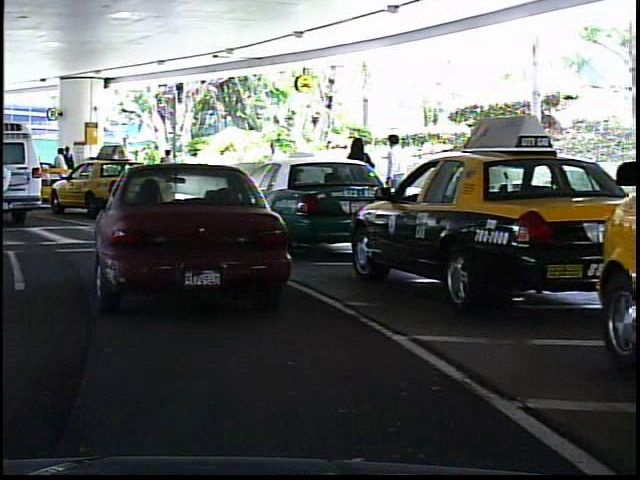person: (337, 130, 372, 231), (379, 127, 411, 229), (258, 135, 287, 208), (151, 144, 177, 197), (48, 146, 67, 198), (59, 144, 75, 195)
